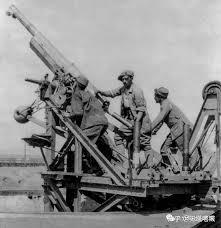MIL_SPG: (7, 5, 221, 212)
